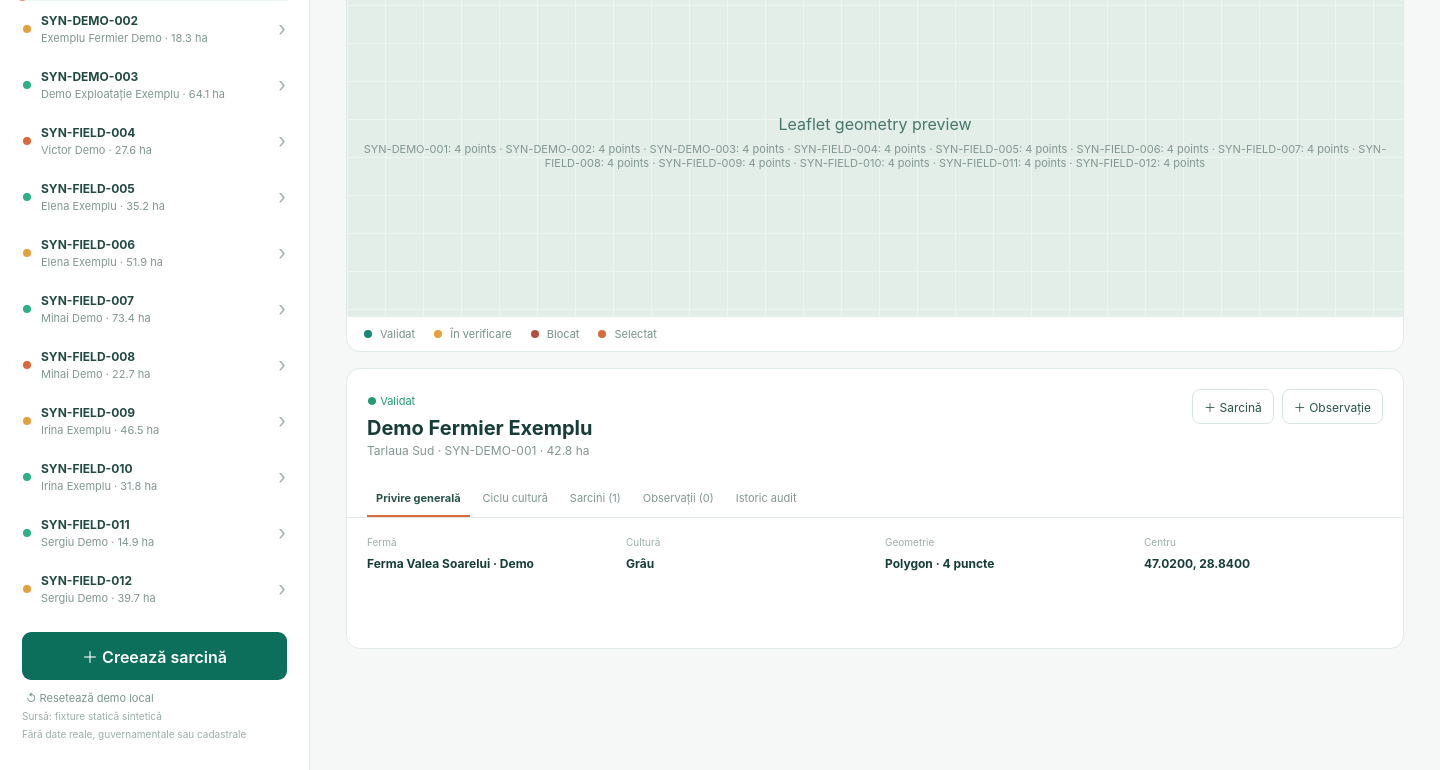
it: registry dashboard › adds and approves an observation
(page scrolled)
Expected: the heading "Demo Fermier Exemplu" is shown, [367,416,592,440]
Click the tab "Observații (0)".
click(678, 498)  # box [634,480,723,516]
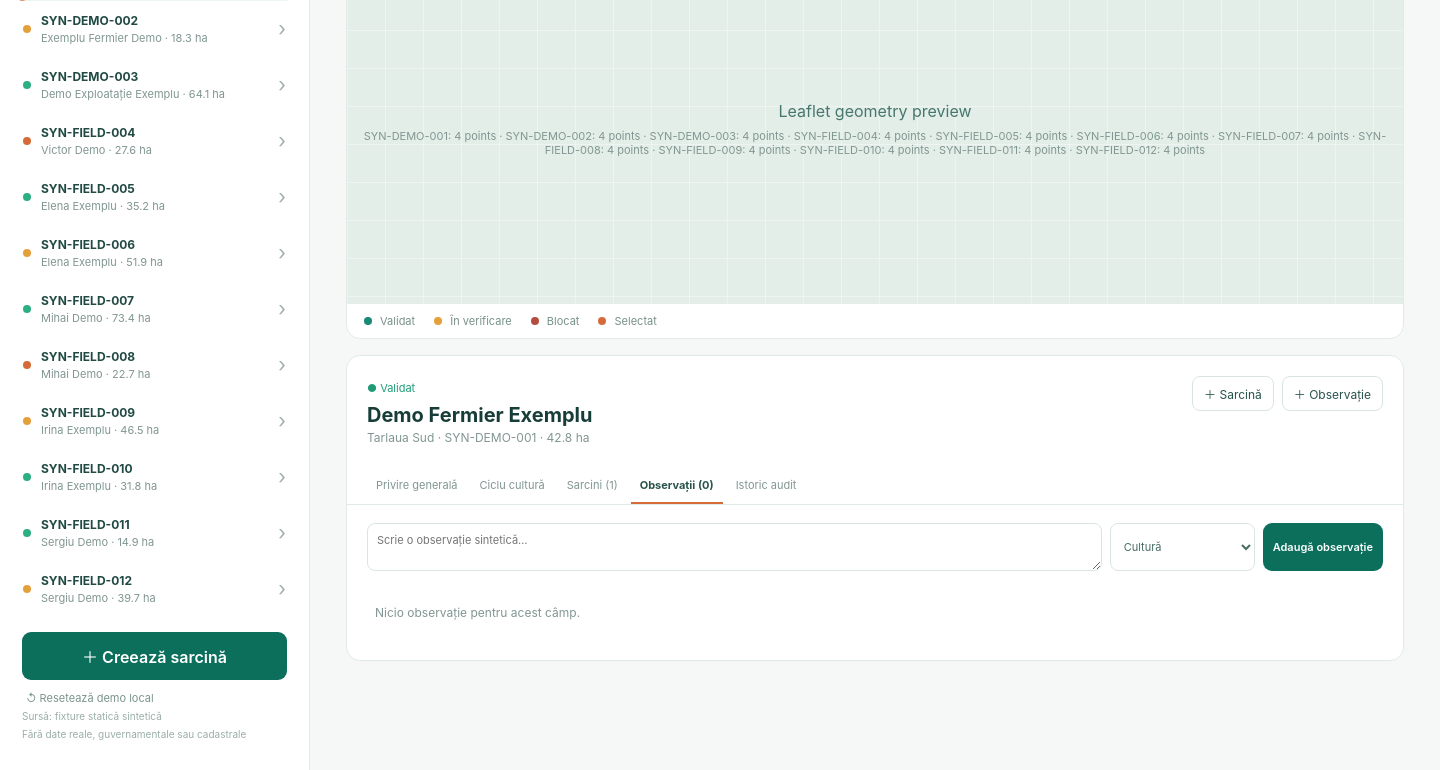
Type "Control sintetic completat." into the text box named "Notă observație".
click(734, 547); type("Control sintetic completat.")  # box [367,523,1102,571]
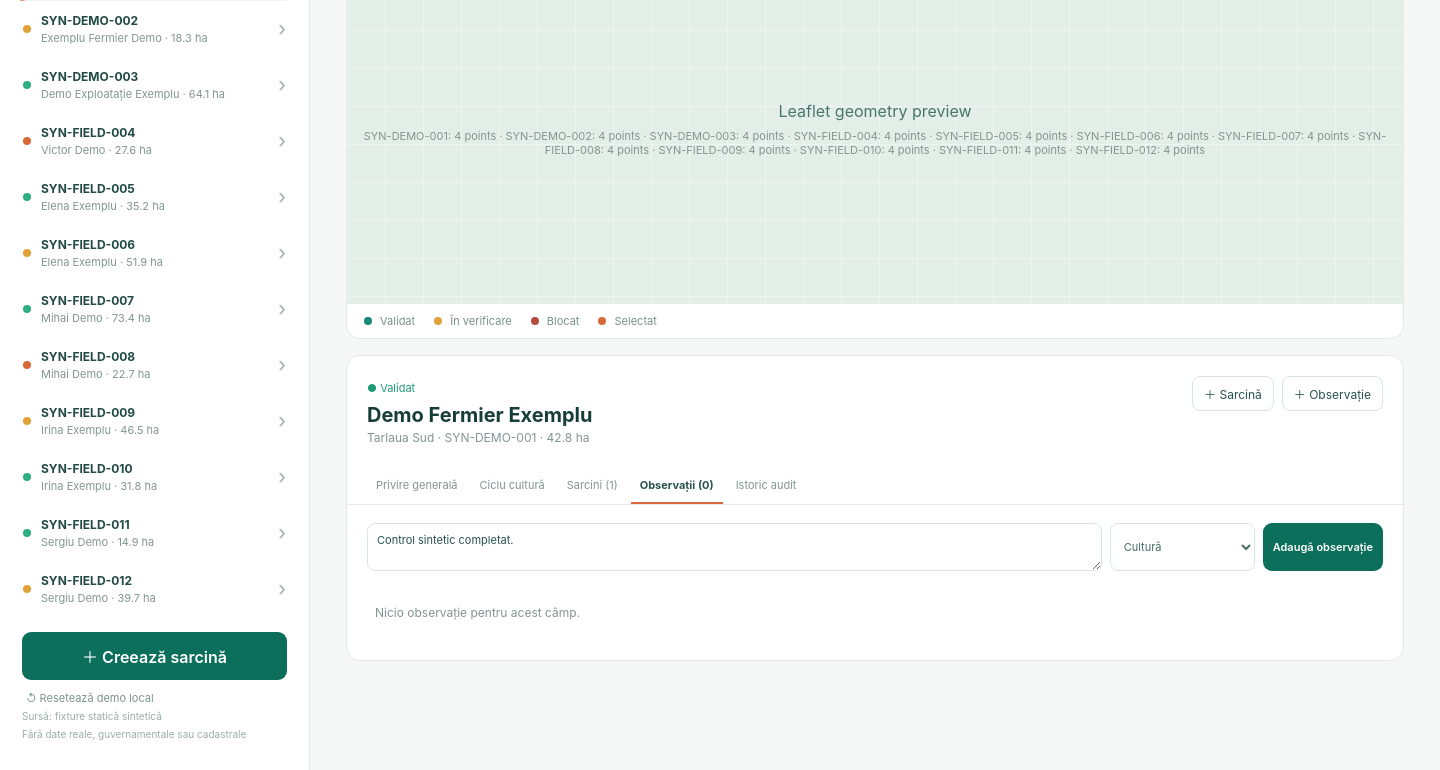
Click the button "Adaugă observație".
click(1323, 547)  # box [1263,523,1383,571]
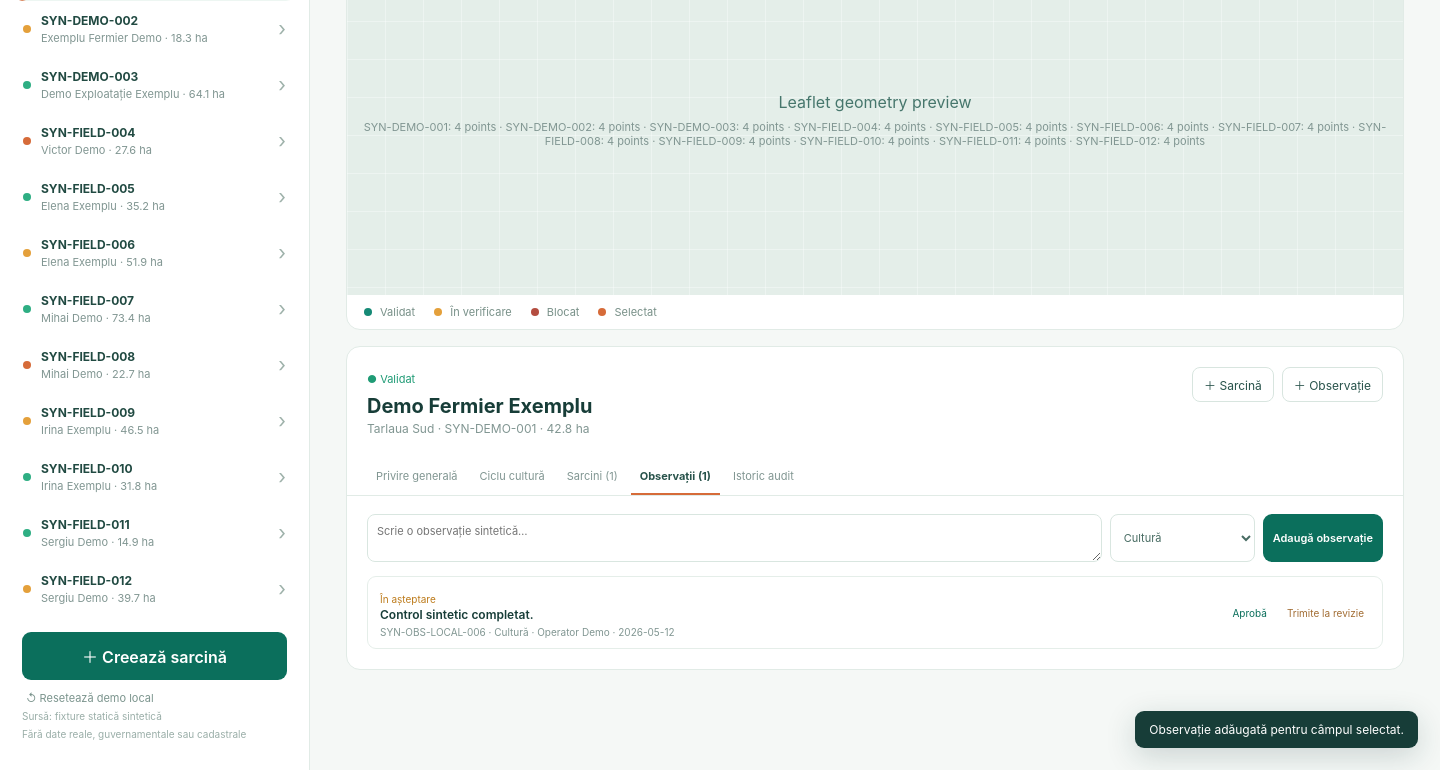
Expected: the text "Control sintetic completat." is shown, [380,607,534,622]
Click the button "Aprobă".
click(1250, 612)  # box [1226,606,1273,620]
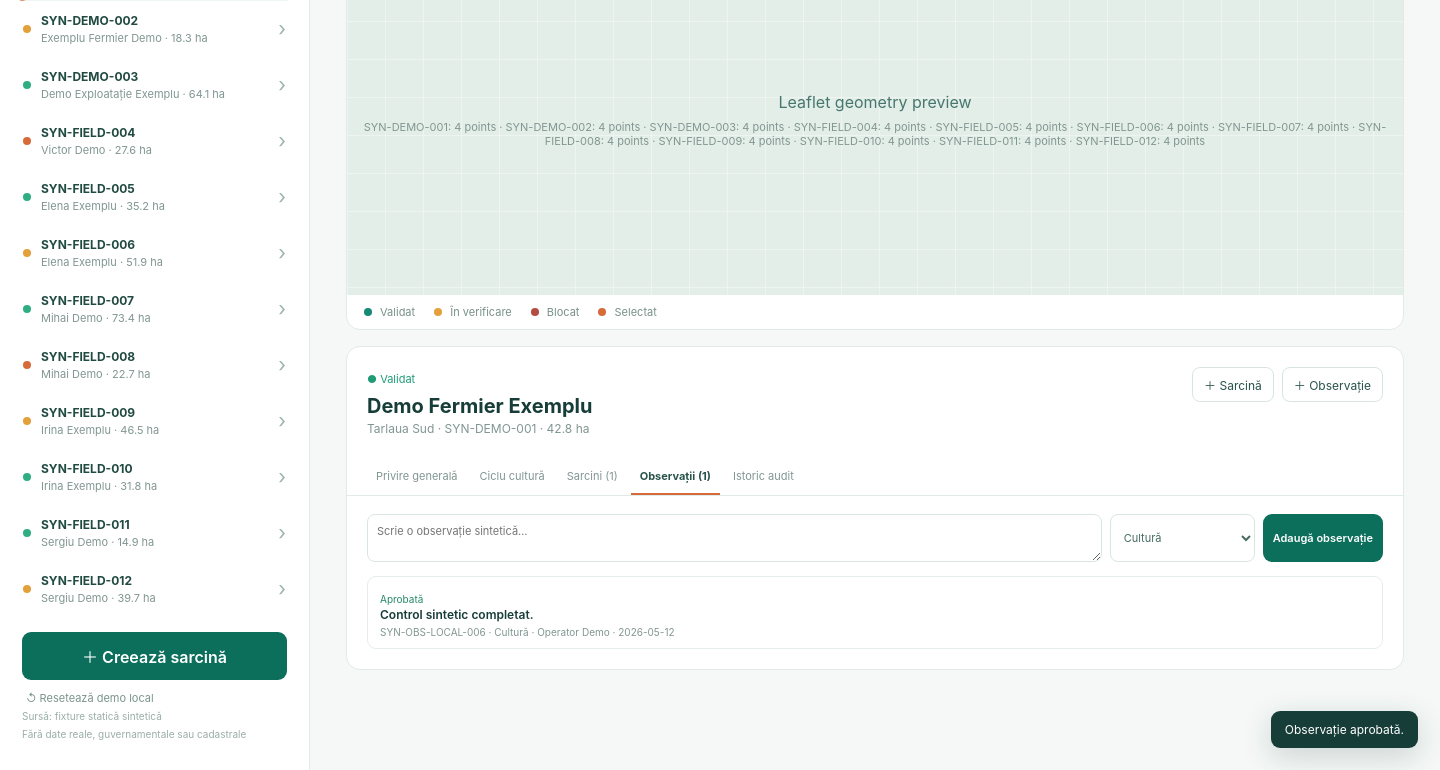
Expected: the text "Observație aprobată." is shown, [1271,711,1418,748]
